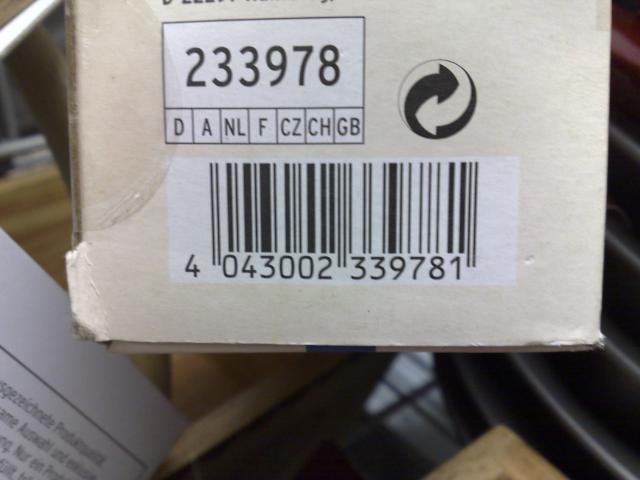Barcode: (179, 157, 484, 285)
